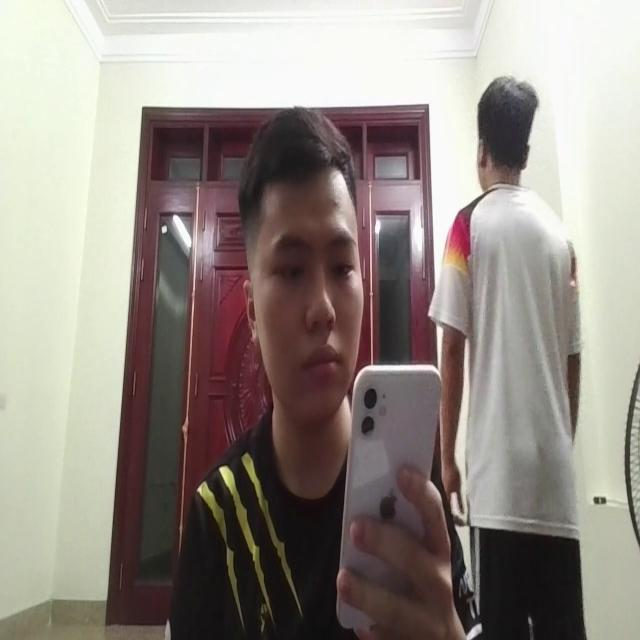extra_person: (430, 69, 588, 609)
phone: (327, 349, 441, 630)
student: (178, 101, 454, 627)
